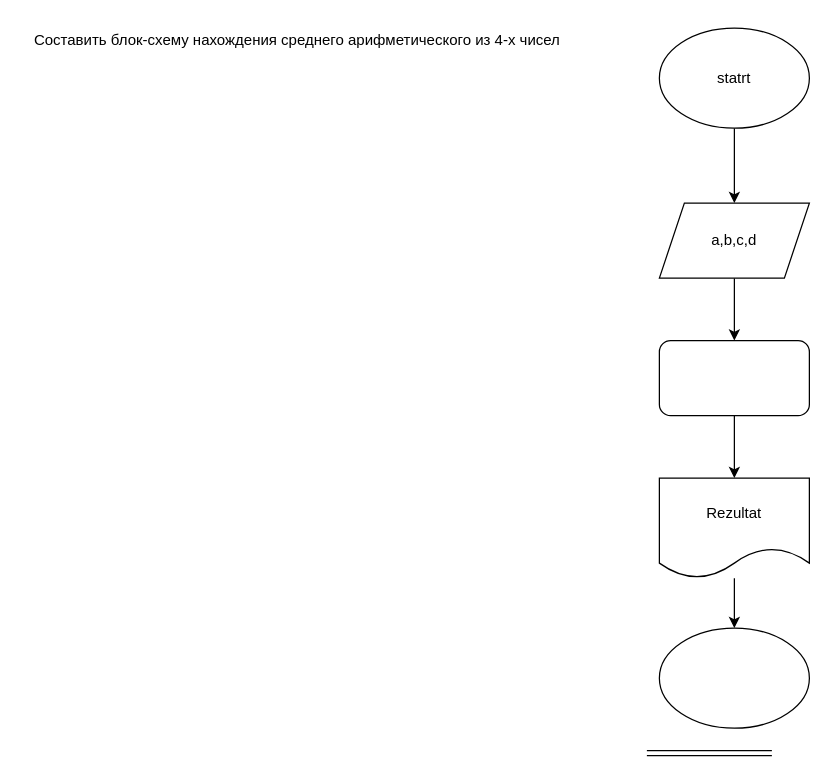
The diagram is 831 pixels wide and 778 high, and some of its shapes have lost their labels. The box of each missing label's shape, as (x1, y1, x2, y2) in pixels:
finish: (658, 627, 809, 728)
Rezultat = (a+b+c+d)/4: (658, 339, 809, 416)
